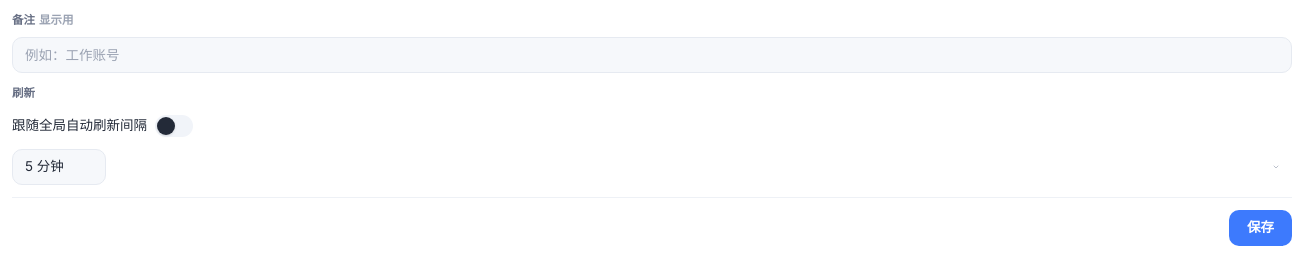
Scenario: SettingsForm › shows saved text after successful save
The width and height of the screenshot is (1304, 263).
What coordinates should you click on to do the following:
click the button with test id "settings-save-btn-deepseek"
I would click on:
 (1260, 228)
Its box is [1229,210,1292,246].
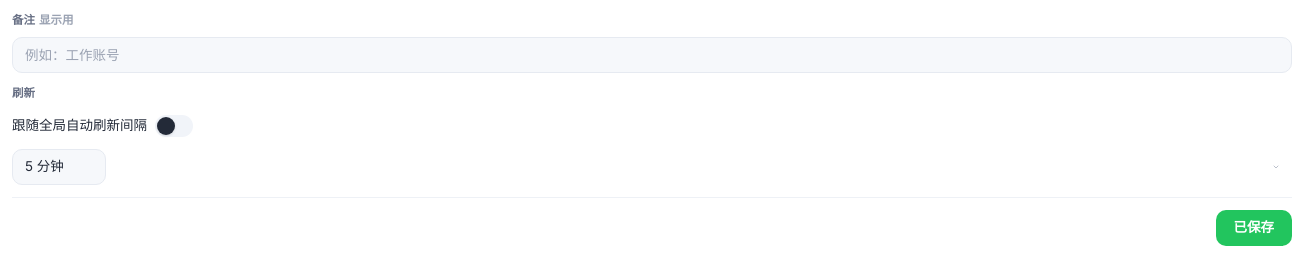
Now the button with test id "settings-save-btn-deepseek" reads "已保存", box [1216,210,1292,246]
